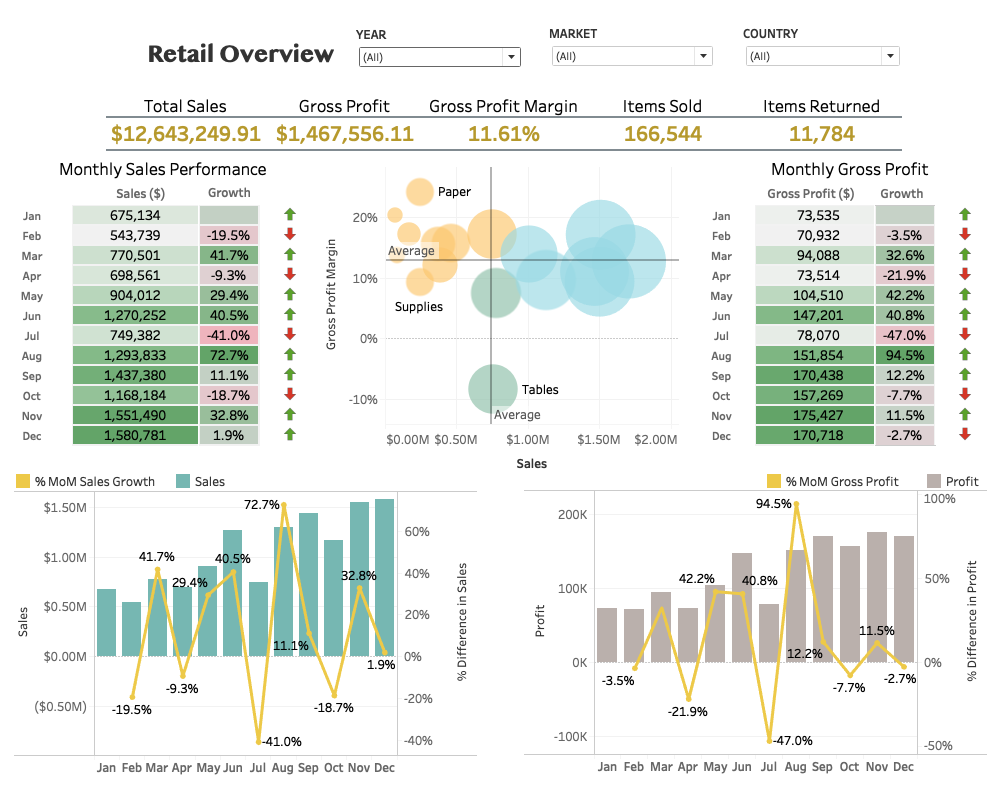

The page's visual inventory and layout, read from the dashboard file:
{"tool":"tableau","page":{"name":"Retail Overview Dashboard","canvas":[1000,800],"ordinal":0},"visuals":[{"type":"image","param":"/Users/akshitjain/Desktop/Big Data/Superstore-Tableau-Analysis/download.jpg","box":[9,11,127,78]},{"type":"filter","title":"MoM Sales KPI","param":"[federated.08whhsn1br31kc1a6so61051tb5e].[none:Market:nk]","box":[548,26,167,47]},{"type":"filter","title":"ComparingMetrics","param":"[federated.08whhsn1br31kc1a6so61051tb5e].[none:Country:nk]","box":[742,26,160,44]},{"type":"filter","title":"MonthlySales","param":"[federated.08whhsn1br31kc1a6so61051tb5e].[yr:Order Date:ok]","box":[355,27,168,52]},{"type":"title","box":[144,35,197,42]},{"type":"worksheet","title":"Overall Stats","mark":"Automatic","box":[104,96,802,73]},{"type":"text","box":[52,149,220,42]},{"type":"text","box":[764,149,170,42]},{"type":"worksheet","title":"ComparingMetrics","mark":"Automatic","rows":["Calculation_1411808133830012935"],"cols":["Sales"],"box":[321,168,357,312]},{"type":"text","box":[86,173,108,42]},{"type":"text","box":[764,173,108,42]},{"type":"text","box":[877,173,108,42]},{"type":"text","box":[189,179,79,29]},{"type":"worksheet","title":"MonthlyProfit","mark":"Automatic","rows":["Order Date"],"box":[686,190,209,257]},{"type":"worksheet","title":"MoM Sales","mark":"Automatic","rows":["Order Date"],"box":[197,205,62,245]},{"type":"worksheet","title":"MoM Sales KPI","mark":"Shape","rows":["Order Date"],"box":[259,205,65,246]},{"type":"worksheet","title":"MoM Profit","mark":"Automatic","rows":["Order Date"],"box":[873,205,62,243]},{"type":"worksheet","title":"MoM Gross Profit KPI","mark":"Shape","rows":["Order Date"],"box":[934,205,64,242]},{"type":"legend","title":"MonthlySales-Plot","param":"[federated.08whhsn1br31kc1a6so61051tb5e].[:Measure Names]","box":[12,434,155,62]},{"type":"legend","title":"MonthlyProfit-Plot","param":"[federated.08whhsn1br31kc1a6so61051tb5e].[:Measure Names]","box":[830,434,162,53]},{"type":"worksheet","title":"MonthlyProfit-Plot","mark":"Automatic","rows":["Profit","Profit"],"cols":["Order Date"],"box":[523,491,464,291]},{"type":"worksheet","title":"MonthlySales-Plot","mark":"Automatic","rows":["Sales","Sales"],"cols":["Order Date"],"box":[13,492,464,291]}]}

Visuals, with their boxes in screenshot pixels (x1, y1, x2, y2), scaled from the page's 1000x800 canvas onto the 1008x794 screenshot:
image: 9 11 137 88
"MoM Sales KPI" filter: 552 26 721 72
"ComparingMetrics" filter: 748 26 909 69
"MonthlySales" filter: 358 27 527 78
title: 145 35 344 76
"Overall Stats" worksheet: 105 95 913 168
text: 52 148 274 190
text: 770 148 941 190
"ComparingMetrics" worksheet: 324 167 683 476
text: 87 172 196 213
text: 770 172 879 213
text: 884 172 993 213
text: 191 178 270 206
"MonthlyProfit" worksheet: 691 189 902 444
"MoM Sales" worksheet: 199 203 261 447
"MoM Sales KPI" worksheet (Shape marks): 261 203 327 448
"MoM Profit" worksheet: 880 203 942 445
"MoM Gross Profit KPI" worksheet (Shape marks): 941 203 1006 444
"MonthlySales-Plot" legend: 12 431 168 492
"MonthlyProfit-Plot" legend: 837 431 1000 483
"MonthlyProfit-Plot" worksheet: 527 487 995 776
"MonthlySales-Plot" worksheet: 13 488 481 777
